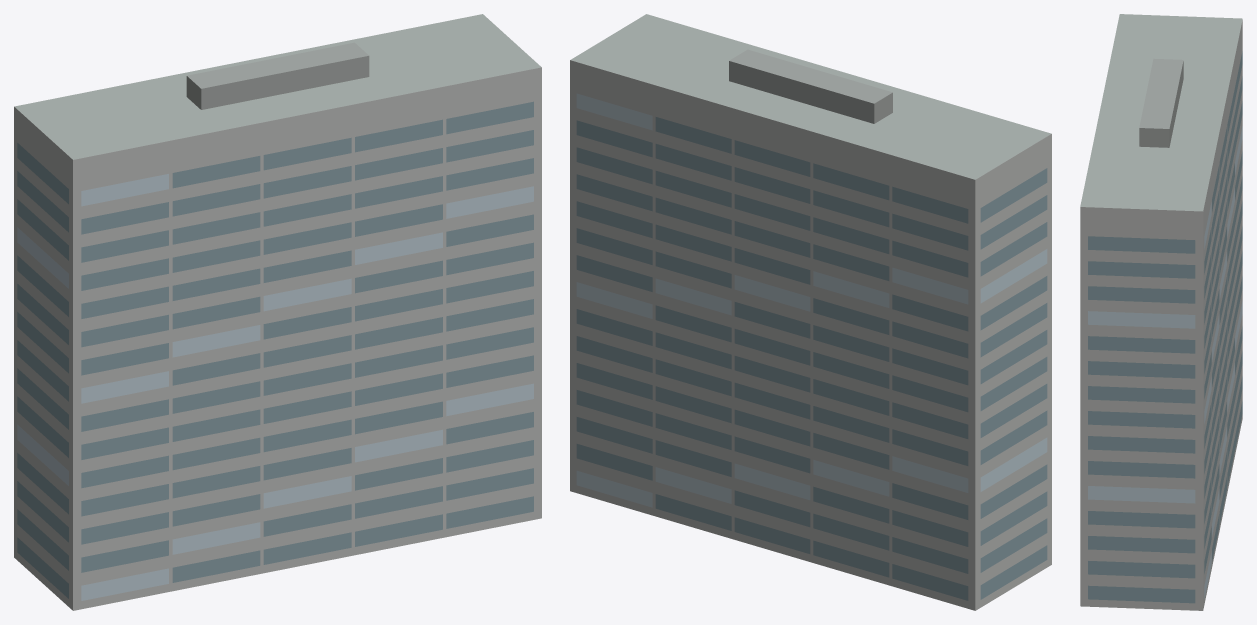
Rendered from fallback-dmc-raemian-e-pyeonhansesang-216.glb.
The picture shows the model from 3 angles, left to right: view 1: azimuth 30°, elevation 25°; view 2: azimuth 150°, elevation 25°; view 3: azimuth 270°, elevation 25°; orthographic projection. The views are drawn at different scales.
Parts seen in each view (by area): view 1: fallback-dmc-raemian-e-pyeonhansesang-216; view 2: fallback-dmc-raemian-e-pyeonhansesang-216; view 3: fallback-dmc-raemian-e-pyeonhansesang-216.
Boxes of the visible parts, x1,y1,x2,y2 form: fallback-dmc-raemian-e-pyeonhansesang-216: (14, 14, 541, 610); fallback-dmc-raemian-e-pyeonhansesang-216: (570, 14, 1051, 610); fallback-dmc-raemian-e-pyeonhansesang-216: (1080, 14, 1242, 610).
Size of the model in its own units: 49.61 by 49 by 17.27.
